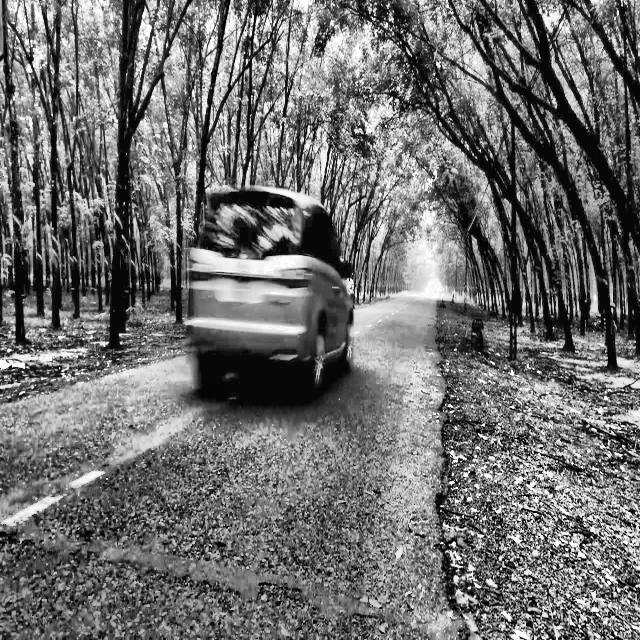automobile: (187, 181, 351, 397)
